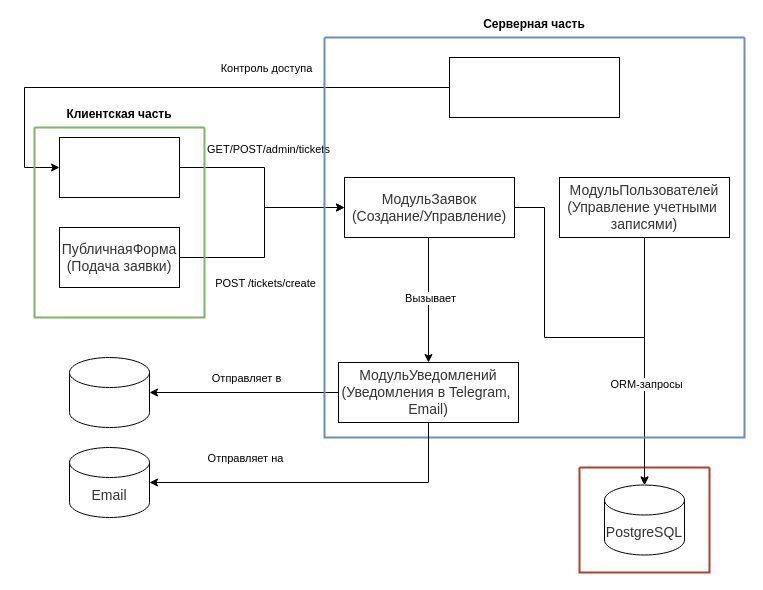
Some shapes in this 763 by 590 pixel diagram are drawn without their labels. Here are the shapes that lost their labels. From the top down, the box of each, then its label:
(448, 56, 620, 118): МодульАутентификации (Авторизация)
(58, 136, 180, 198): АдминПанель (Django Admin)
(68, 356, 150, 428): Telegram Bot
(578, 466, 710, 573): База данных
